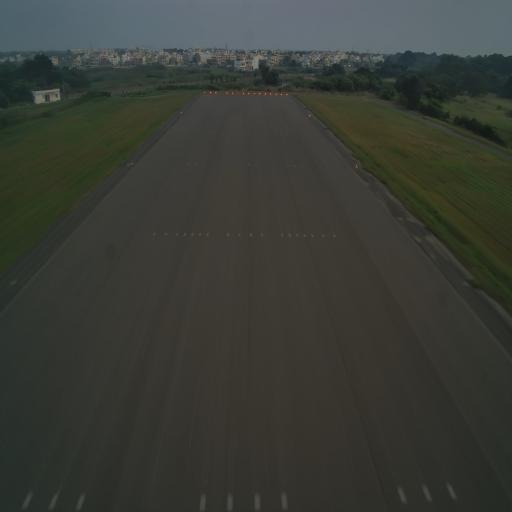off: (18, 485, 38, 512), (441, 476, 459, 504), (394, 481, 408, 508), (419, 481, 434, 506), (48, 488, 63, 512), (195, 488, 209, 512), (225, 488, 239, 512), (250, 485, 262, 512), (74, 491, 88, 512), (280, 487, 290, 512), (236, 230, 242, 240), (309, 231, 315, 240), (190, 230, 196, 238), (294, 232, 300, 240), (302, 231, 307, 240), (332, 232, 337, 241), (174, 232, 180, 239), (182, 230, 187, 238), (198, 230, 202, 240), (225, 232, 230, 240), (280, 232, 285, 240), (288, 230, 292, 240), (249, 230, 253, 239), (163, 230, 167, 238), (260, 230, 264, 238), (321, 232, 326, 238), (206, 231, 210, 238), (129, 162, 134, 167), (186, 161, 190, 167), (292, 162, 296, 168), (153, 230, 156, 237), (233, 161, 236, 168), (194, 162, 197, 168), (201, 161, 204, 167), (300, 163, 303, 168), (241, 162, 243, 168), (248, 161, 250, 167), (255, 161, 257, 167), (287, 163, 289, 169)
on: (354, 162, 358, 170)
